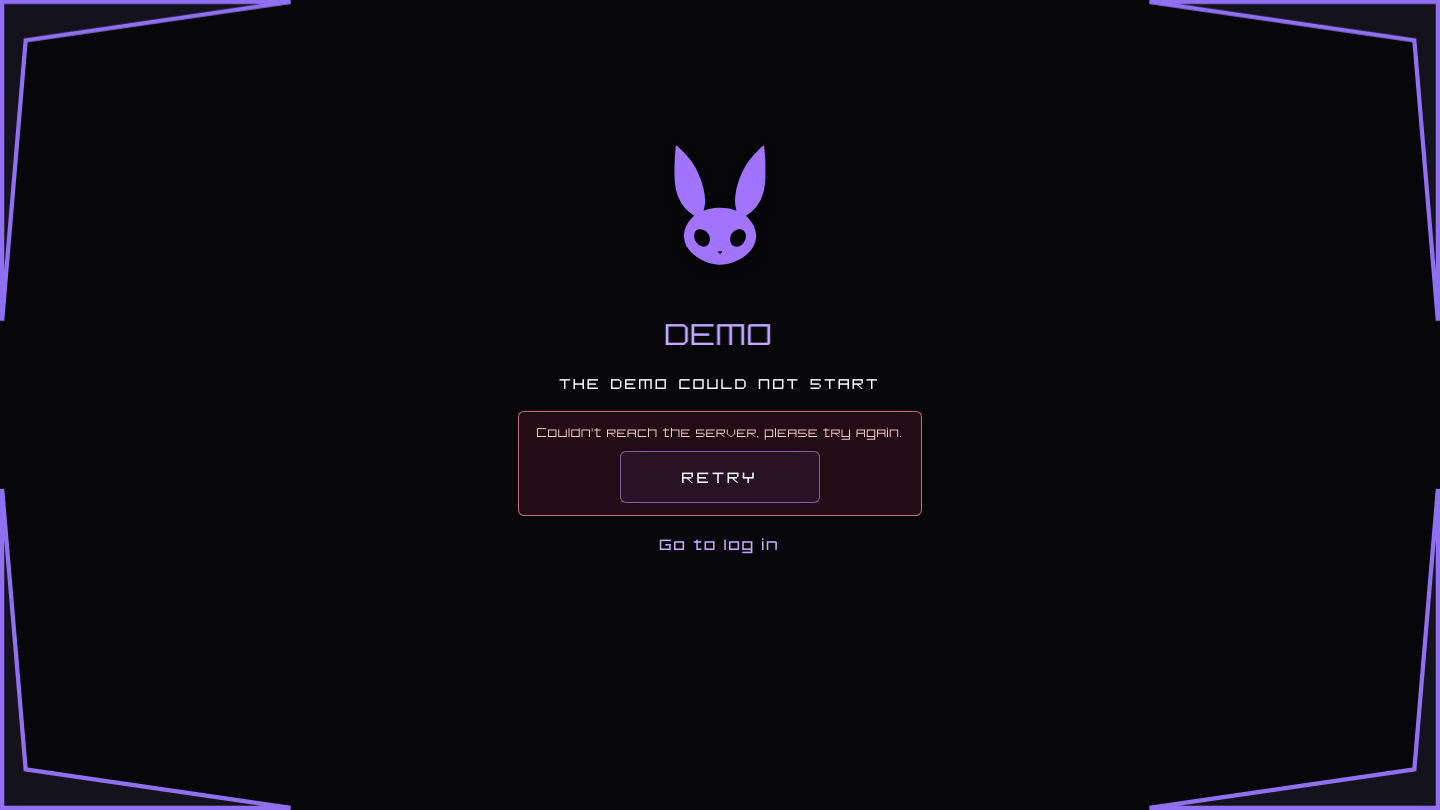
Test case: the /demo page › shows the waking message after 2 seconds, then Retry if the server cannot be reached
Later steps or results of the test are not shown.
Check: the message shows "Couldn't reach the server", box [537,424,903,441]
Click the button "Retry".
click(720, 477)  # box [620,451,820,503]
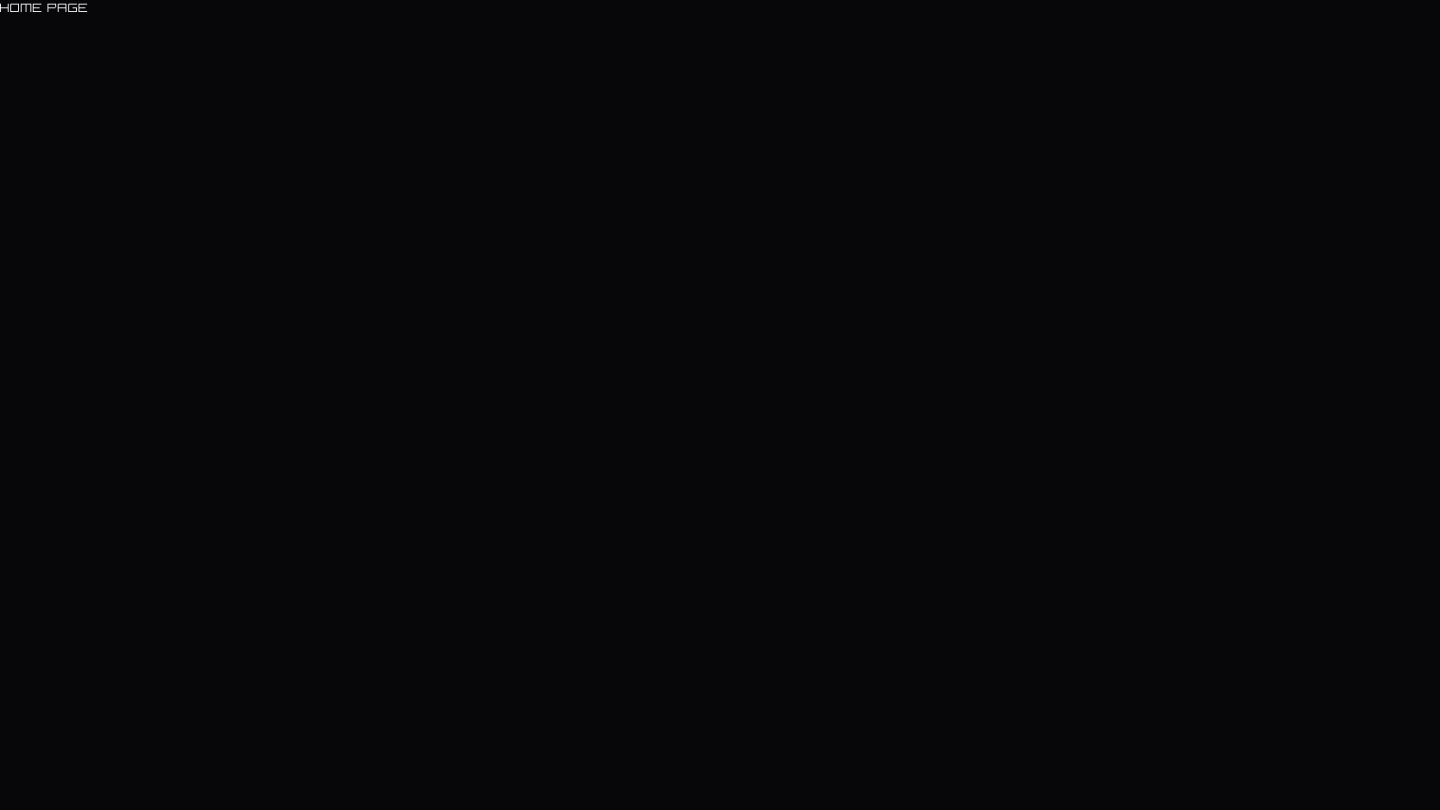
Check: the text "HOME PAGE" is shown, box [0,0,89,16]
